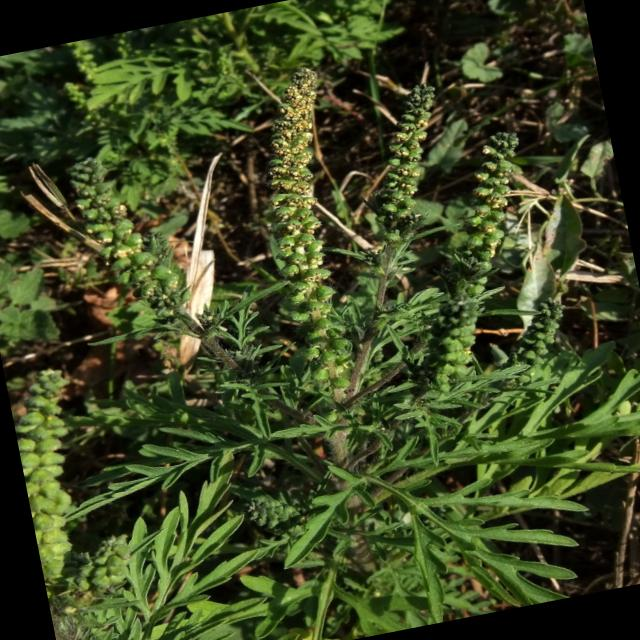ambrosia: (291, 364, 640, 640), (206, 48, 381, 426), (48, 122, 202, 366), (2, 348, 112, 610), (356, 52, 470, 260), (458, 105, 557, 341)
